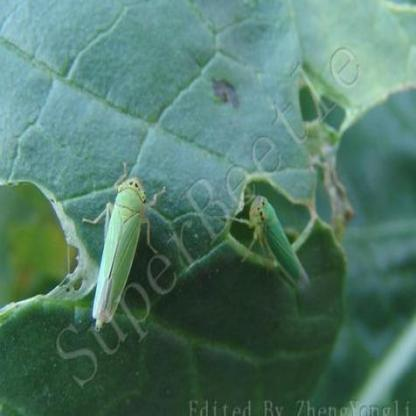Green-Leafhopper: (87, 164, 166, 337), (228, 186, 309, 299)
